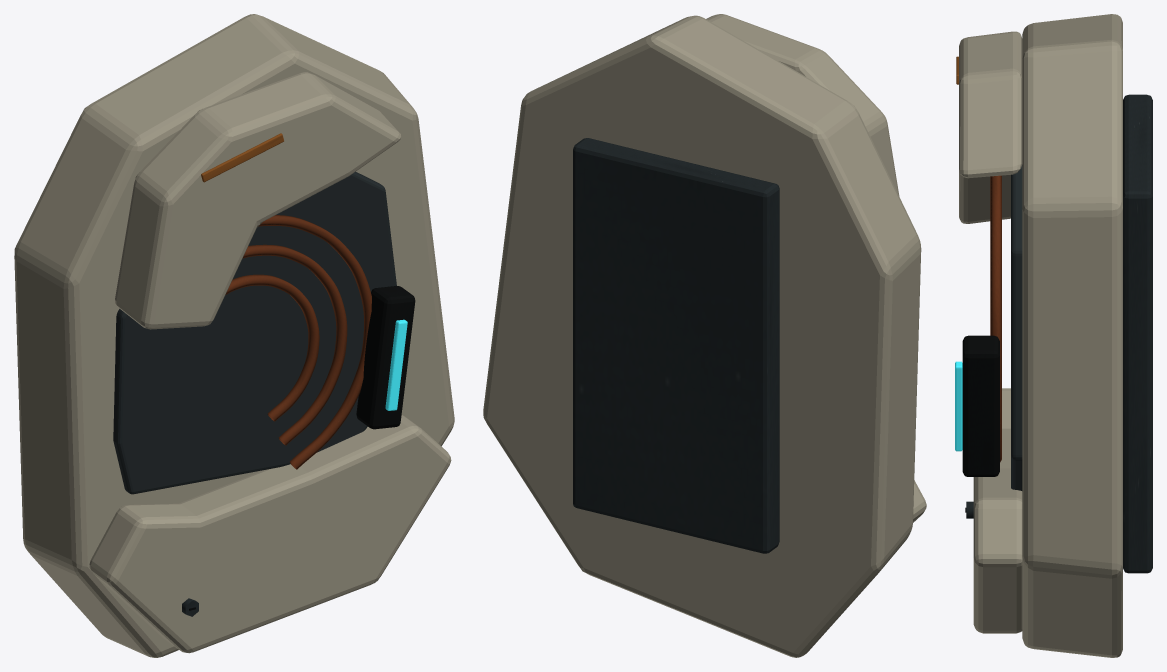
File: magnetic_field.glb
The picture shows the model from 3 angles, left to right: view 1: azimuth 30°, elevation 25°; view 2: azimuth 150°, elevation 25°; view 3: azimuth 270°, elevation 25°; orthographic projection. The views are drawn at different scales.
Visible parts, largest first — view 1: ivory, steel, copper, rubber, cyan, paint; view 2: ivory, steel; view 3: ivory, steel, rubber, copper, cyan.
Part boxes in pixels (x1,y1,x2,y2): ivory: (14, 14, 454, 657); steel: (113, 171, 396, 616); copper: (225, 215, 371, 469); rubber: (189, 286, 415, 610); cyan: (385, 319, 407, 410); paint: (201, 133, 283, 182); ivory: (483, 14, 926, 657); steel: (573, 138, 779, 553); ivory: (959, 14, 1122, 657); steel: (966, 94, 1152, 573); rubber: (962, 335, 999, 512); copper: (990, 175, 1001, 462); cyan: (955, 361, 962, 451).
Size of the model in its own units: 0.1327 by 0.1824 by 0.053.
Materials: 6 (5 with a texture image).
